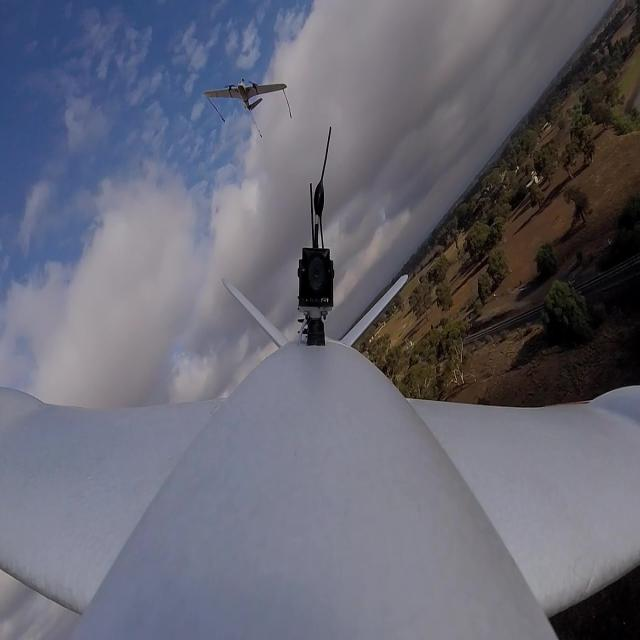iha: (234, 12, 260, 76)
